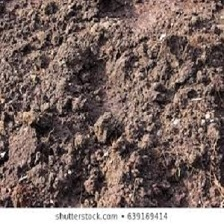loamy_soil: (13, 18, 208, 184)
